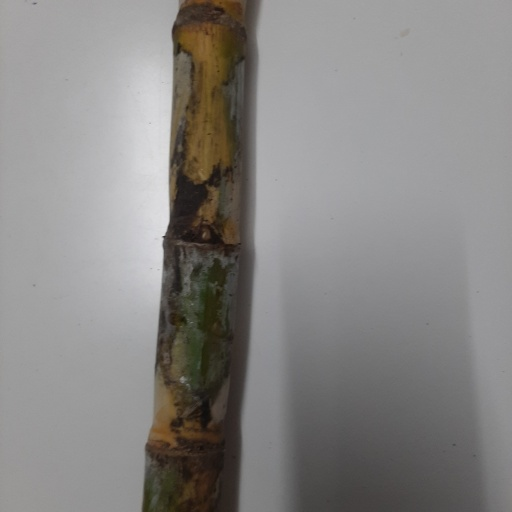Bud: (194, 224, 217, 243)
